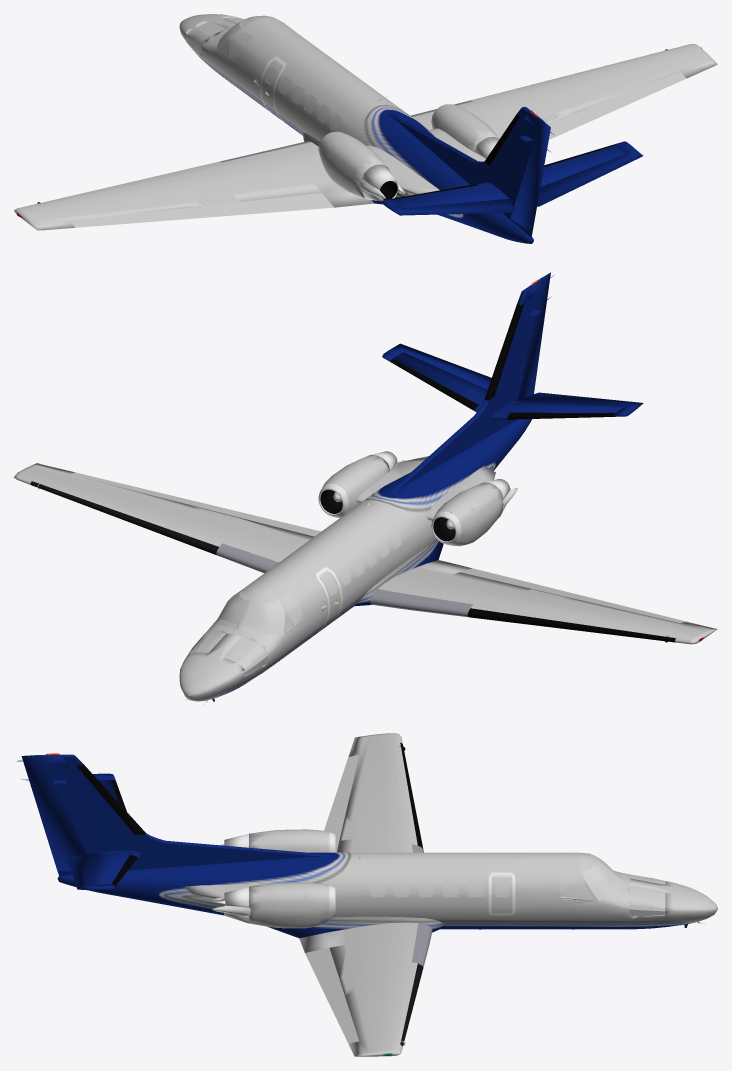
The picture shows the model from 3 angles, top to bottom: view 1: azimuth 30°, elevation 25°; view 2: azimuth 150°, elevation 25°; view 3: azimuth 270°, elevation 25°; orthographic projection. The views are drawn at different scales.
Visible parts, largest first — view 1: Aft_BaggageDoor, Door_glass, Door_handle; view 2: Aft_BaggageDoor, Door_glass, LHwing_heater_001, Door_handle, LEngine_001; view 3: Aft_BaggageDoor, Door_glass, Door_handle, LHwing_heater_001.
Part boxes in pixels (x1,y1,x2,y2): Aft_BaggageDoor: [14, 14, 717, 243]; Door_glass: [217, 22, 341, 131]; Door_handle: [265, 92, 499, 201]; Aft_BaggageDoor: [14, 272, 717, 701]; Door_glass: [217, 529, 401, 635]; LHwing_heater_001: [216, 543, 473, 617]; Door_handle: [186, 451, 517, 704]; LEngine_001: [320, 489, 455, 541]; Aft_BaggageDoor: [17, 733, 717, 1056]; Door_glass: [370, 856, 620, 901]; Door_handle: [212, 832, 705, 923]; LHwing_heater_001: [412, 844, 432, 967].
Bounding box in the file's own units: 15.62 × 4.06 × 14.48.
7 materials, 5 textured.
